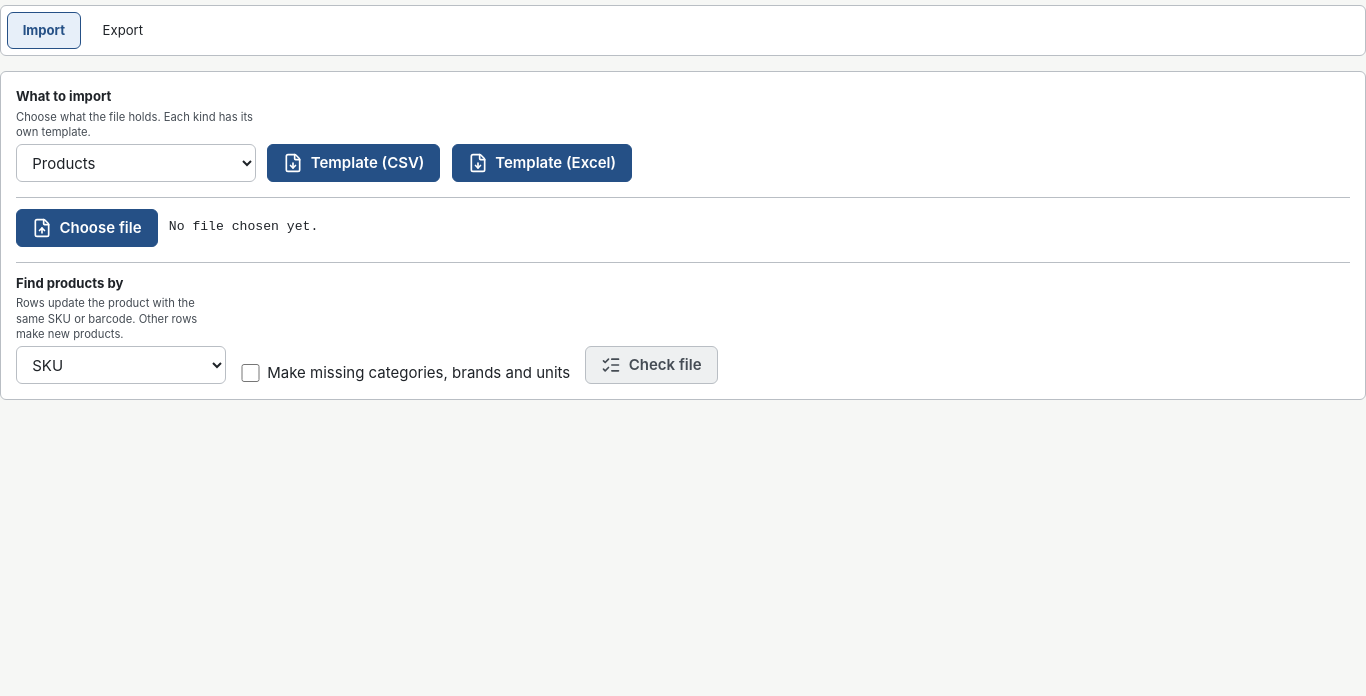
Scenario: ImportExportPage (fake bridge) › io_01: a chosen file is matched by its headers and every problem is listed
Click the button "Choose file" at [87, 228], box [16, 209, 158, 246]
(page scrolled)
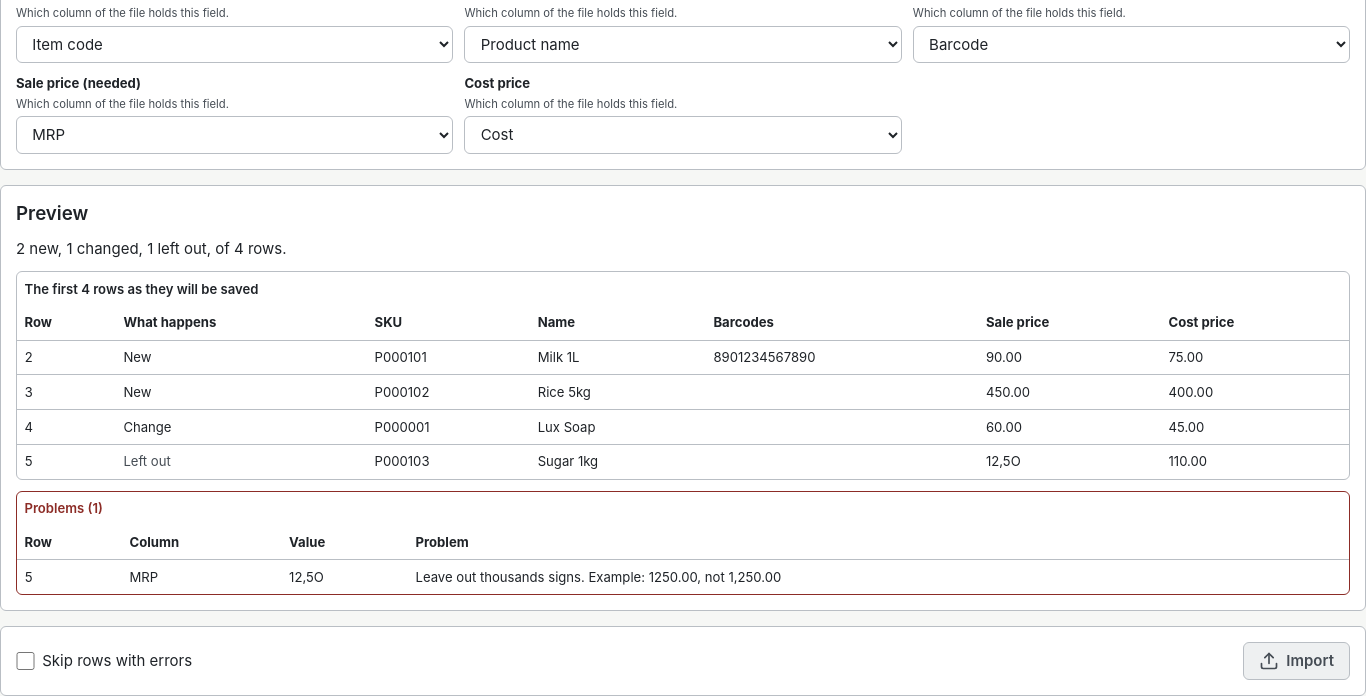
Expected: the dropdown labelled "Sale price (needed)" shows "MRP", [16, 116, 453, 154]
Expected: the text "2 new, 1 changed, 1 left out, of 4 rows." is shown, [16, 239, 287, 258]
Expected: the number of cells "12,5O" is 2, [978, 444, 1161, 479]; [282, 560, 408, 594]
